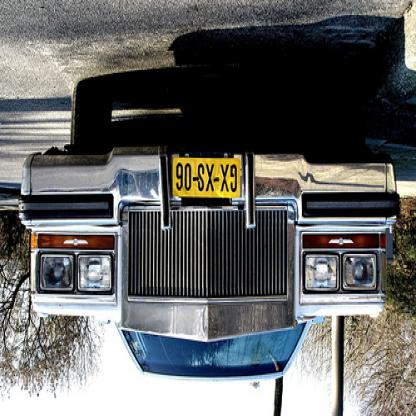car: (19, 81, 402, 386)
